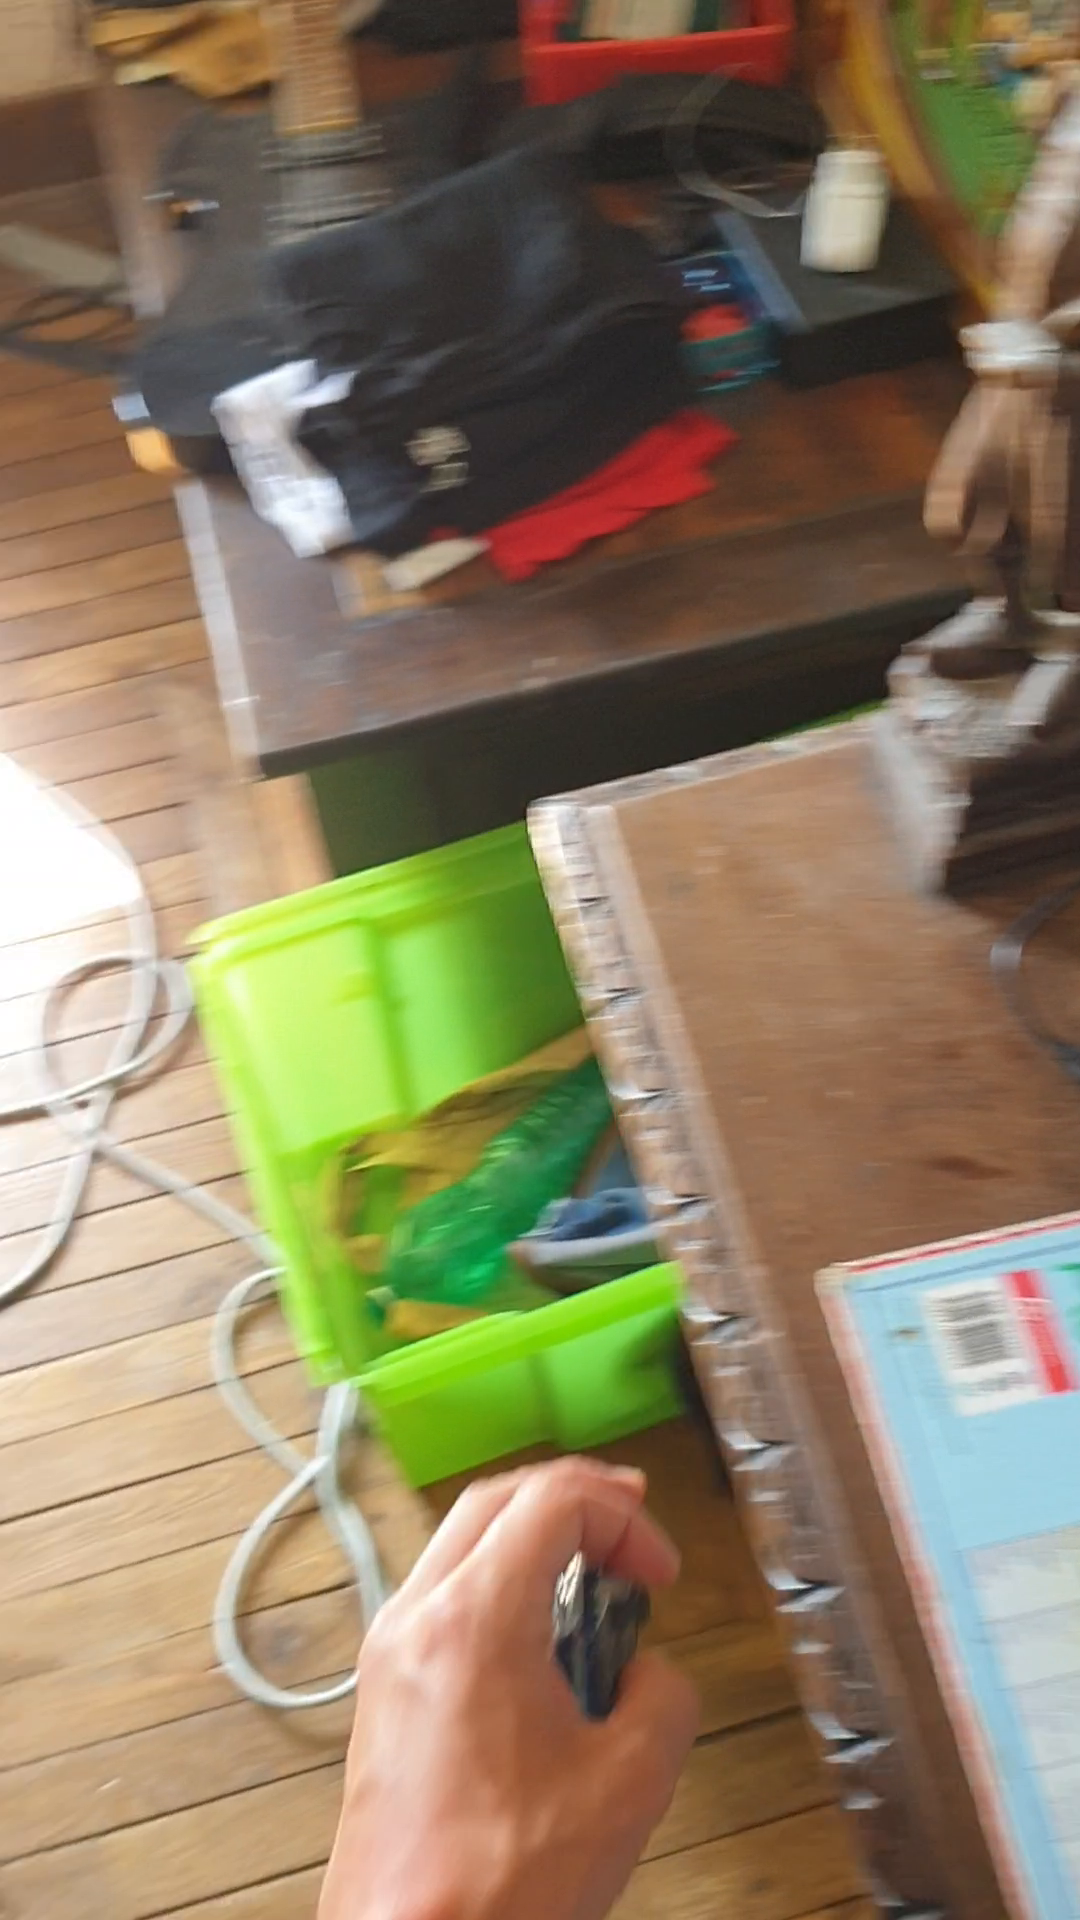cars: (546, 1535, 659, 1729)
